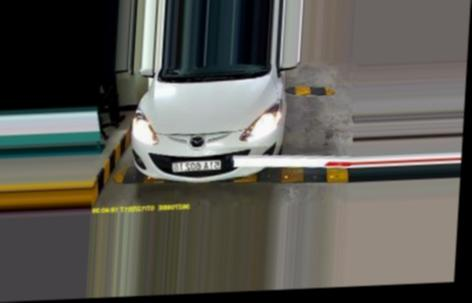License_Plate: (171, 158, 222, 174)
